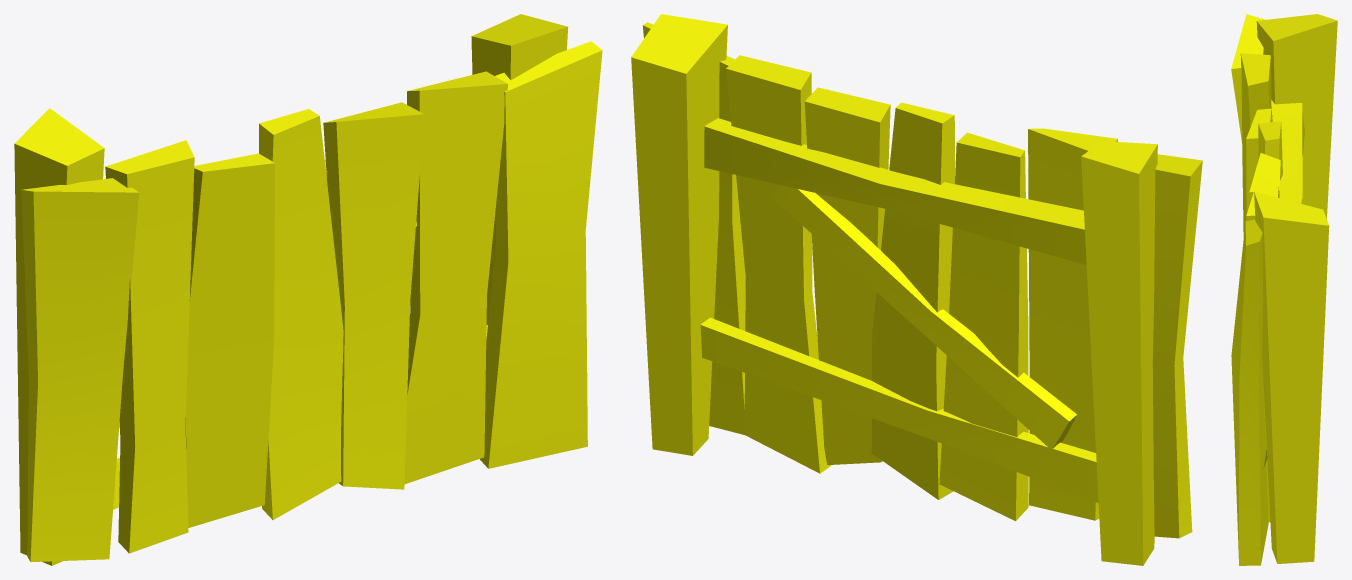
The model's file is SM_PROP_fence_v01_02.glb.
3 views of the same model, side by side, from view 1: azimuth 30°, elevation 25°; view 2: azimuth 150°, elevation 25°; view 3: azimuth 270°, elevation 25° (orthographic). The views are drawn at different scales.
Parts seen in each view (by area): view 1: SM_PROP_fence_v01_02; view 2: SM_PROP_fence_v01_02; view 3: SM_PROP_fence_v01_02.
Boxes of the visible parts, x1,y1,x2,y2 form: SM_PROP_fence_v01_02: [14, 14, 602, 565]; SM_PROP_fence_v01_02: [631, 14, 1202, 565]; SM_PROP_fence_v01_02: [1231, 14, 1337, 565].
Size of the model in its own units: 2.82 by 2.01 by 0.5428.
3 materials, 3 textured.
